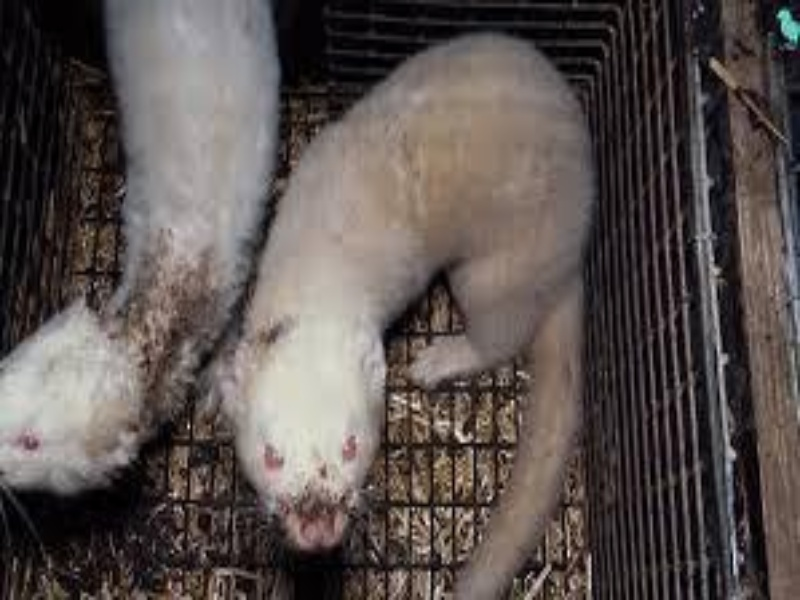minkish: (228, 39, 588, 574), (1, 1, 278, 502)
